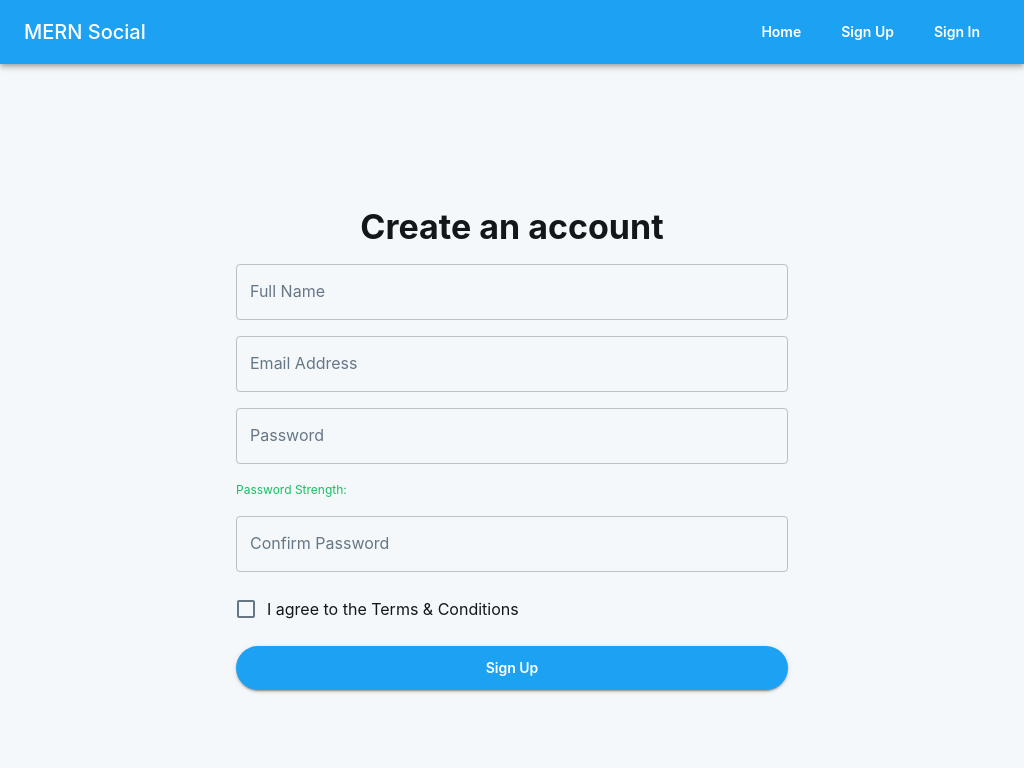
Sign-Up Page › ❌ Should show error for weak password
The image size is (1024, 768).
In the field named "name": (512, 292) [236, 264, 788, 320], type "John Doe"
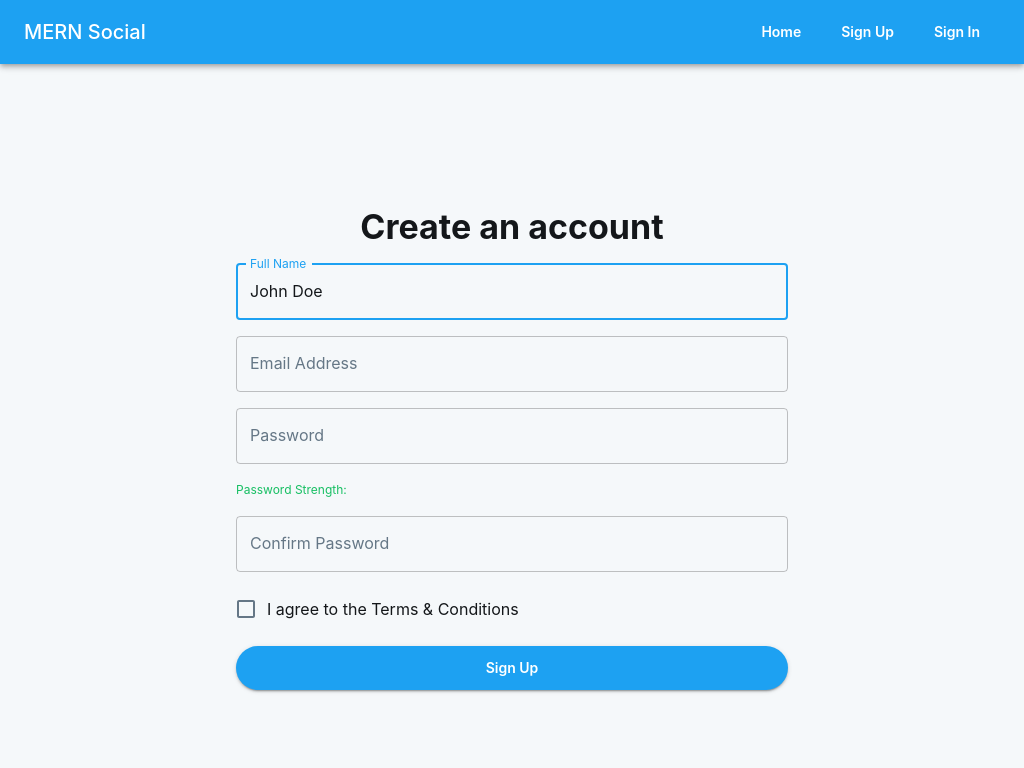
In the field named "email": (512, 364) [236, 336, 788, 392], type "john@example.com"
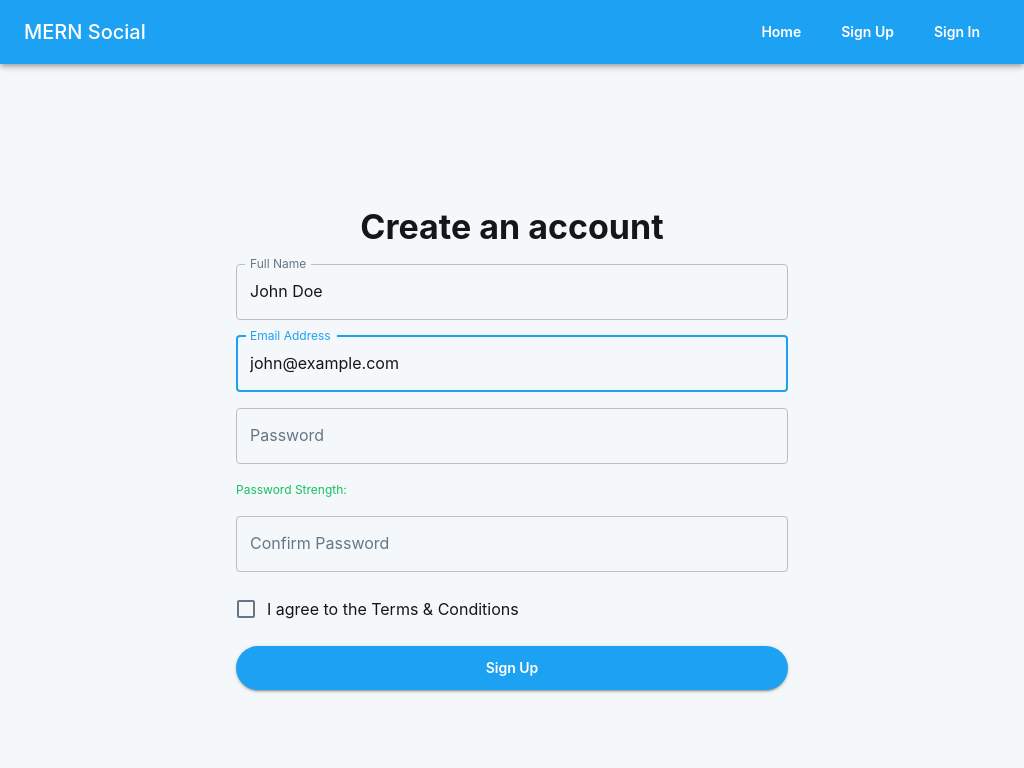
In the password field named "password": (512, 436) [236, 408, 788, 464], type "weakpas"
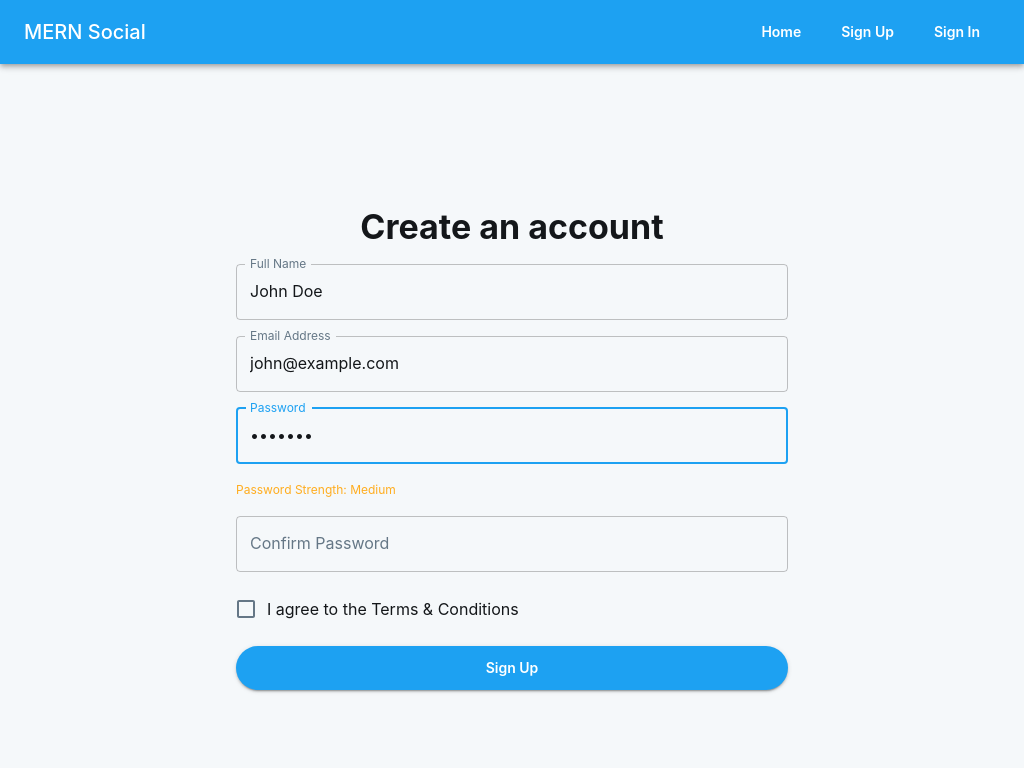
Click the submit button: (512, 669) [236, 646, 788, 691]
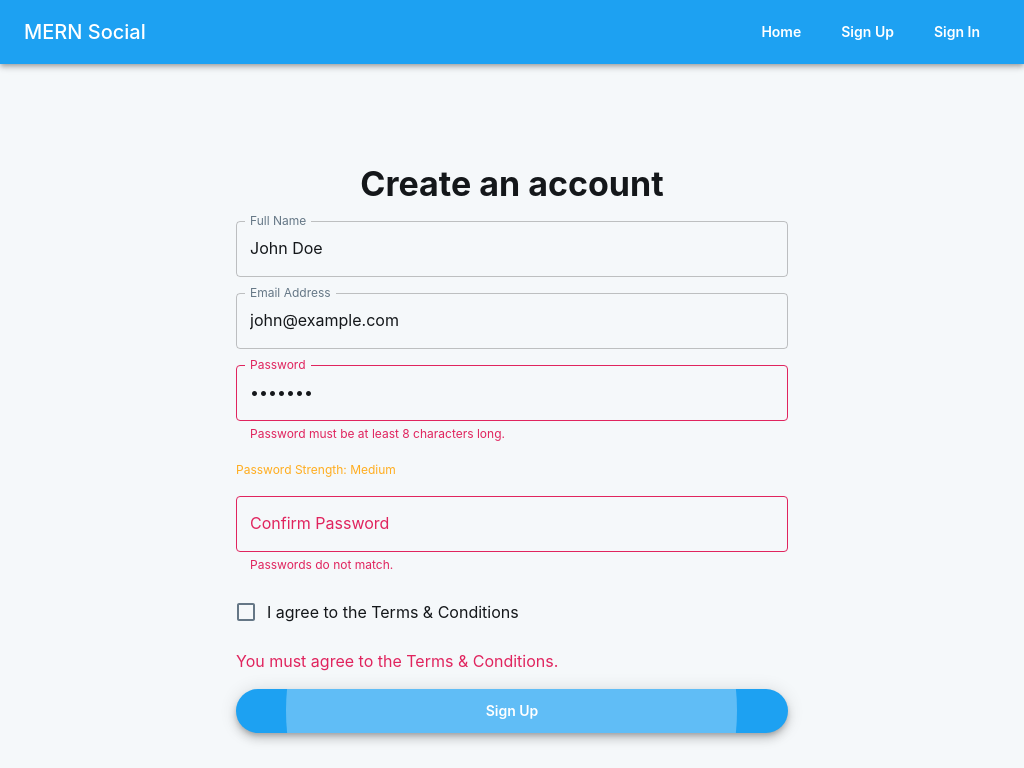
Expected: the text "Password must be at least 8 characters" is shown, [250, 426, 505, 441]
